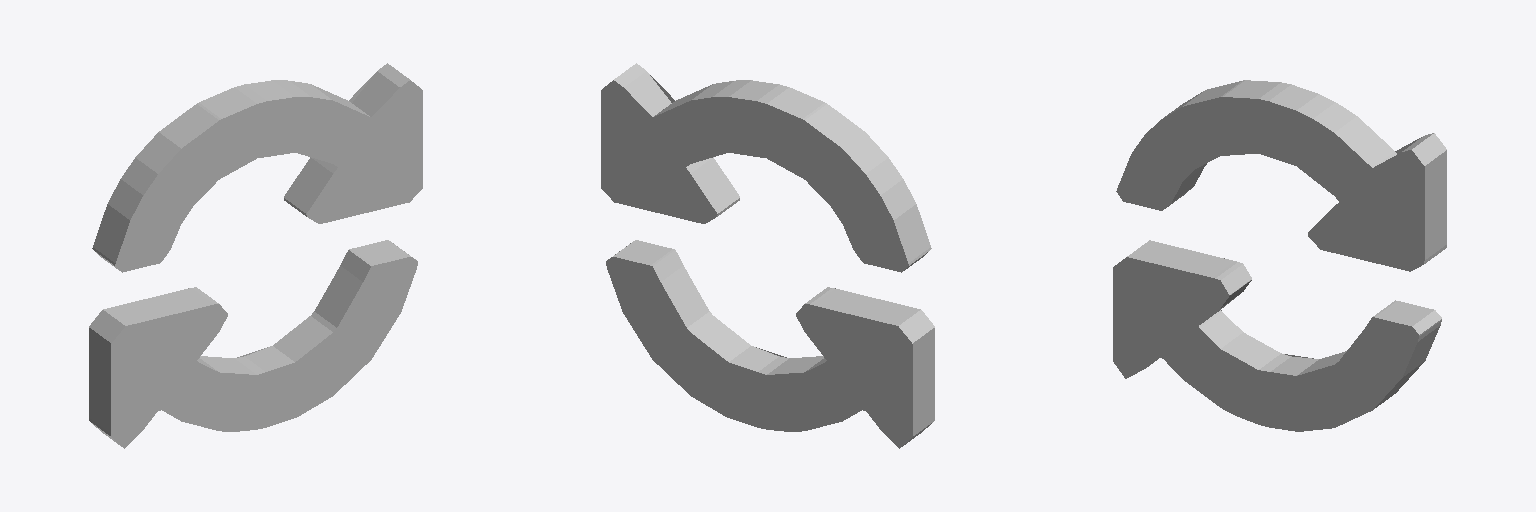
File: fa-refresh.obj
The picture shows the model from 3 angles: view 1: azimuth 30°, elevation 25°; view 2: azimuth 150°, elevation 25°; view 3: azimuth 330°, elevation 25°; orthographic projection.
Size of the model in its own units: 0.9072 by 0.907 by 0.1152.